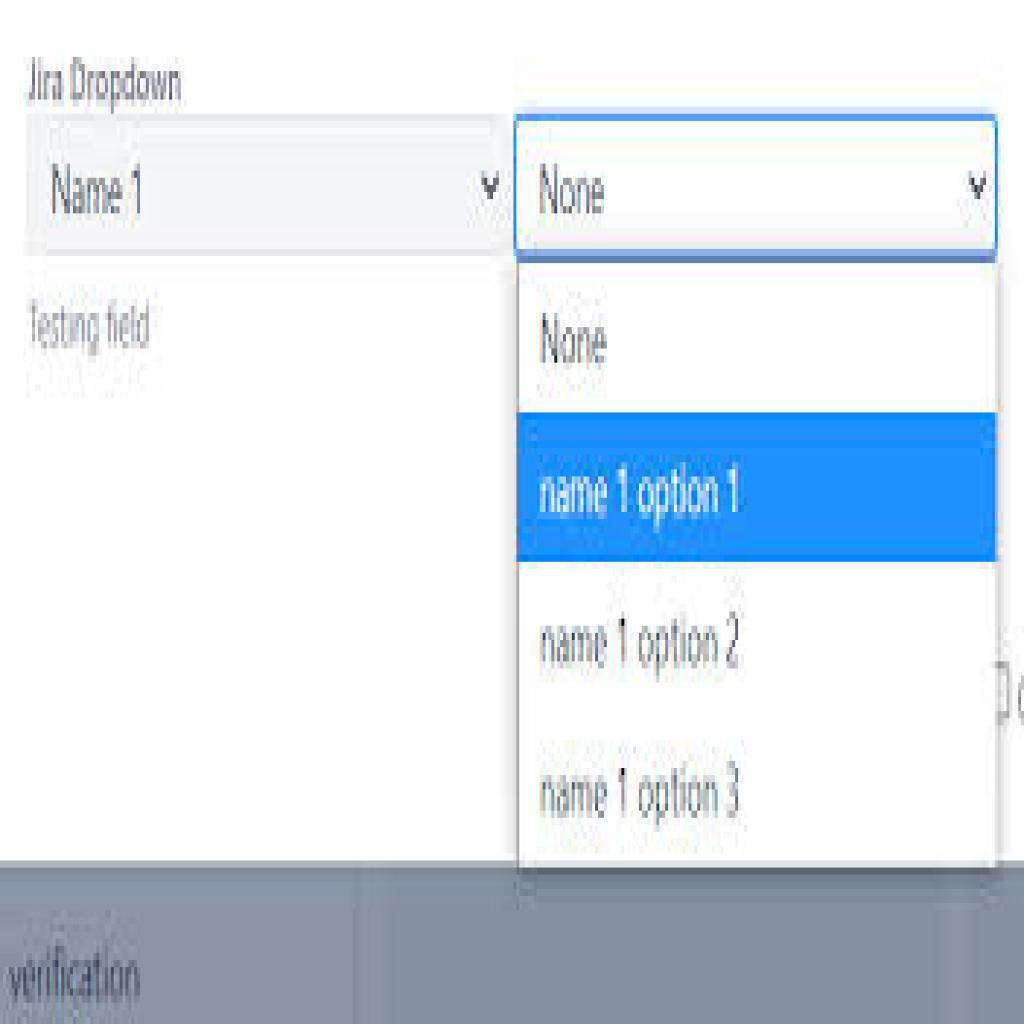button: (518, 412, 1001, 565)
dropdown: (516, 117, 995, 257), (37, 120, 511, 255)
